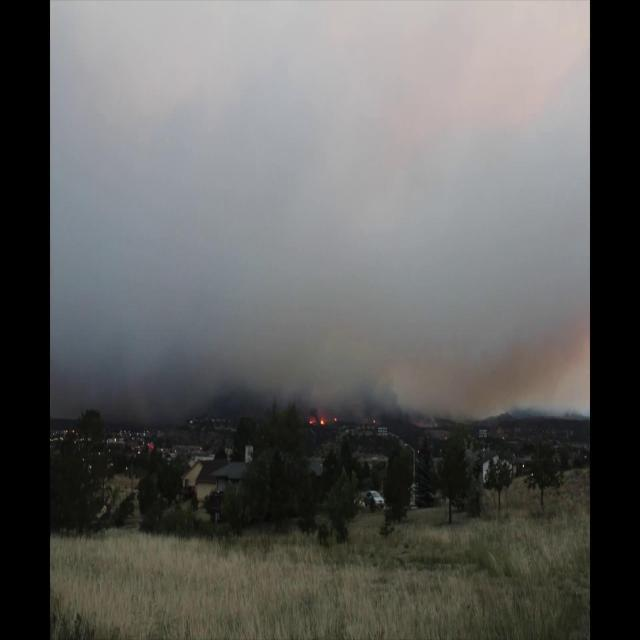Fire: (307, 416, 315, 424), (321, 418, 325, 426)
